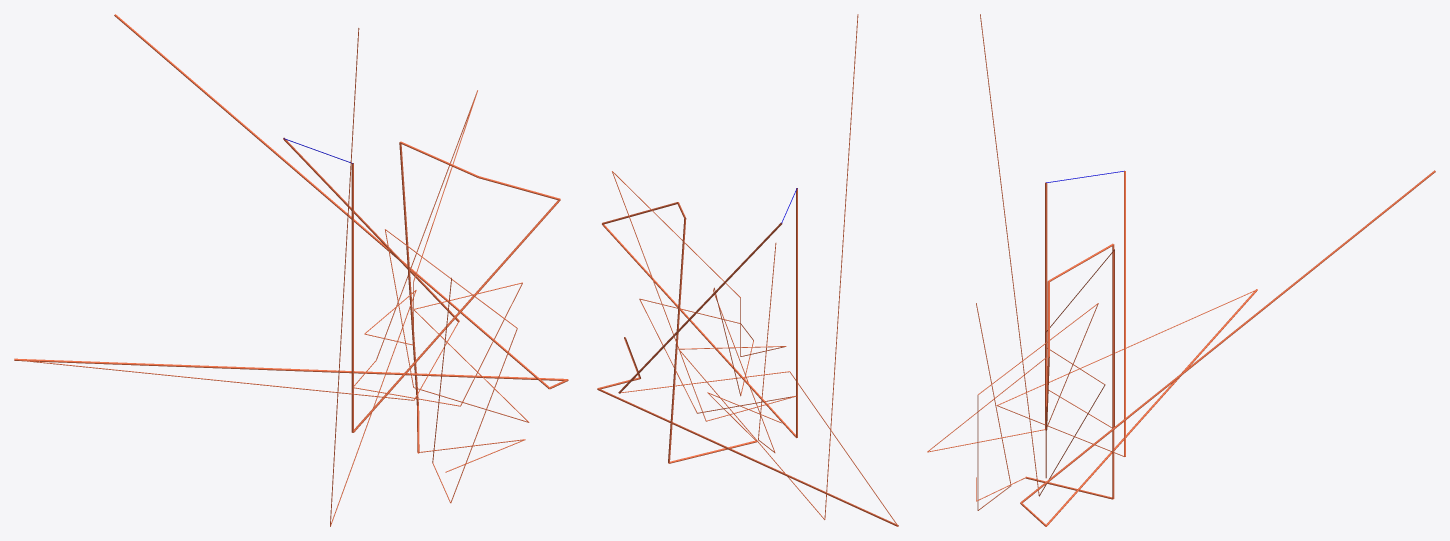
Rendered from HEXATRON2.glb.
3 renders of one model, left to right at view 1: azimuth 30°, elevation 25°; view 2: azimuth 150°, elevation 25°; view 3: azimuth 270°, elevation 25°, orthographic. The views are drawn at different scales.
Visible parts, largest first — view 1: OD_10__ID_3_1_2_, OD_10__ID_3_1_2__3, OD_10__ID_3_1_2__2, OD_10__ID_3_1_2__1, OD_4__ID_3_1_2__7, OD_10__ID_3_1_2__9, OD_10__ID_3_1_2__4; view 2: OD_10__ID_3_1_2_, OD_4__ID_3_1_2__7, OD_10__ID_3_1_2__2, OD_10__ID_3_1_2__9, OD_10__ID_3_1_2__4, OD_10__ID_3_1_2__1, OD_4__ID_3_1_2_; view 3: OD_10__ID_3_1_2__3, OD_10__ID_3_1_2_, OD_10__ID_3_1_2__9, OD_4__ID_3_1_2__7, OD_10__ID_3_1_2__1.
Part boxes in pixels (left/top/right/bottom): OD_10__ID_3_1_2_: left=14, top=358, right=566, bottom=380; OD_10__ID_3_1_2__3: left=114, top=14, right=549, bottom=388; OD_10__ID_3_1_2__2: left=353, top=200, right=560, bottom=432; OD_10__ID_3_1_2__1: left=351, top=163, right=353, bottom=432; OD_4__ID_3_1_2__7: left=330, top=28, right=359, bottom=526; OD_10__ID_3_1_2__9: left=399, top=142, right=418, bottom=405; OD_10__ID_3_1_2__4: left=283, top=137, right=459, bottom=321; OD_10__ID_3_1_2_: left=597, top=388, right=898, bottom=526; OD_4__ID_3_1_2__7: left=824, top=14, right=858, bottom=519; OD_10__ID_3_1_2__2: left=602, top=224, right=796, bottom=438; OD_10__ID_3_1_2__9: left=668, top=218, right=686, bottom=463; OD_10__ID_3_1_2__4: left=618, top=223, right=782, bottom=393; OD_10__ID_3_1_2__1: left=796, top=188, right=797, bottom=437; OD_4__ID_3_1_2_: left=612, top=171, right=706, bottom=420; OD_10__ID_3_1_2__3: left=1020, top=170, right=1435, bottom=502; OD_10__ID_3_1_2_: left=1045, top=289, right=1257, bottom=526; OD_10__ID_3_1_2__9: left=1112, top=244, right=1114, bottom=498; OD_4__ID_3_1_2__7: left=980, top=14, right=1039, bottom=495; OD_10__ID_3_1_2__1: left=1045, top=182, right=1047, bottom=428.
Size of the model in its own units: 2294 by 2611 by 2505.
